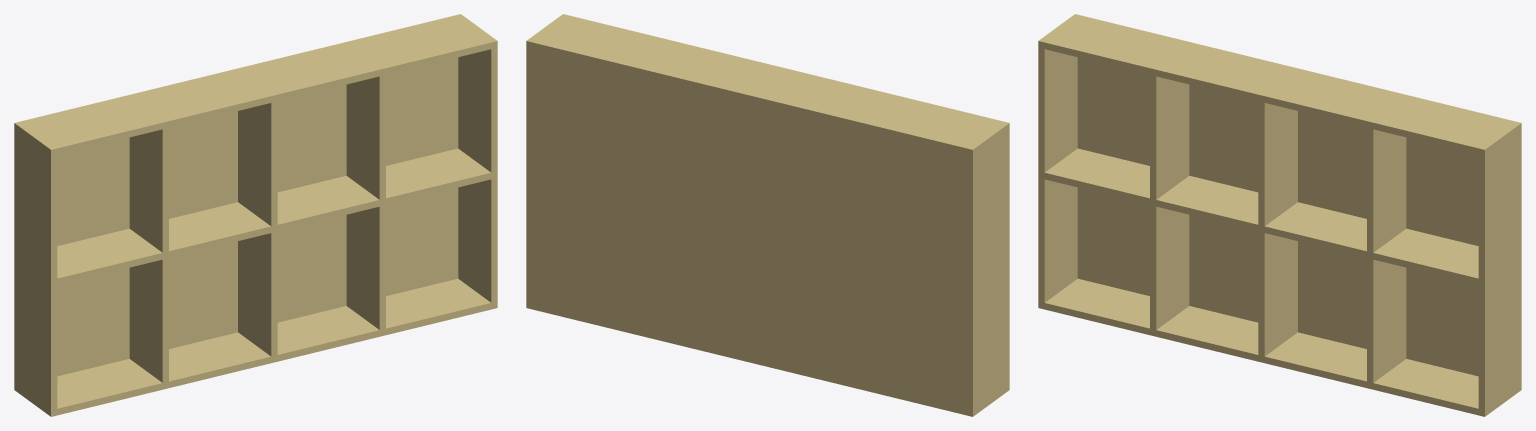
File: ep8-storage-tray.glb
3 renders of one model, left to right at view 1: azimuth 30°, elevation 25°; view 2: azimuth 150°, elevation 25°; view 3: azimuth 330°, elevation 25°, orthographic.
Visible parts, largest first — view 1: world; view 2: world; view 3: world.
Boxes of the visible parts, x1,y1,x2,y2 form: world: (14, 14, 497, 416); world: (526, 14, 1009, 416); world: (1038, 14, 1521, 416).
Bounding box in the file's own units: 140 × 80 × 20.
